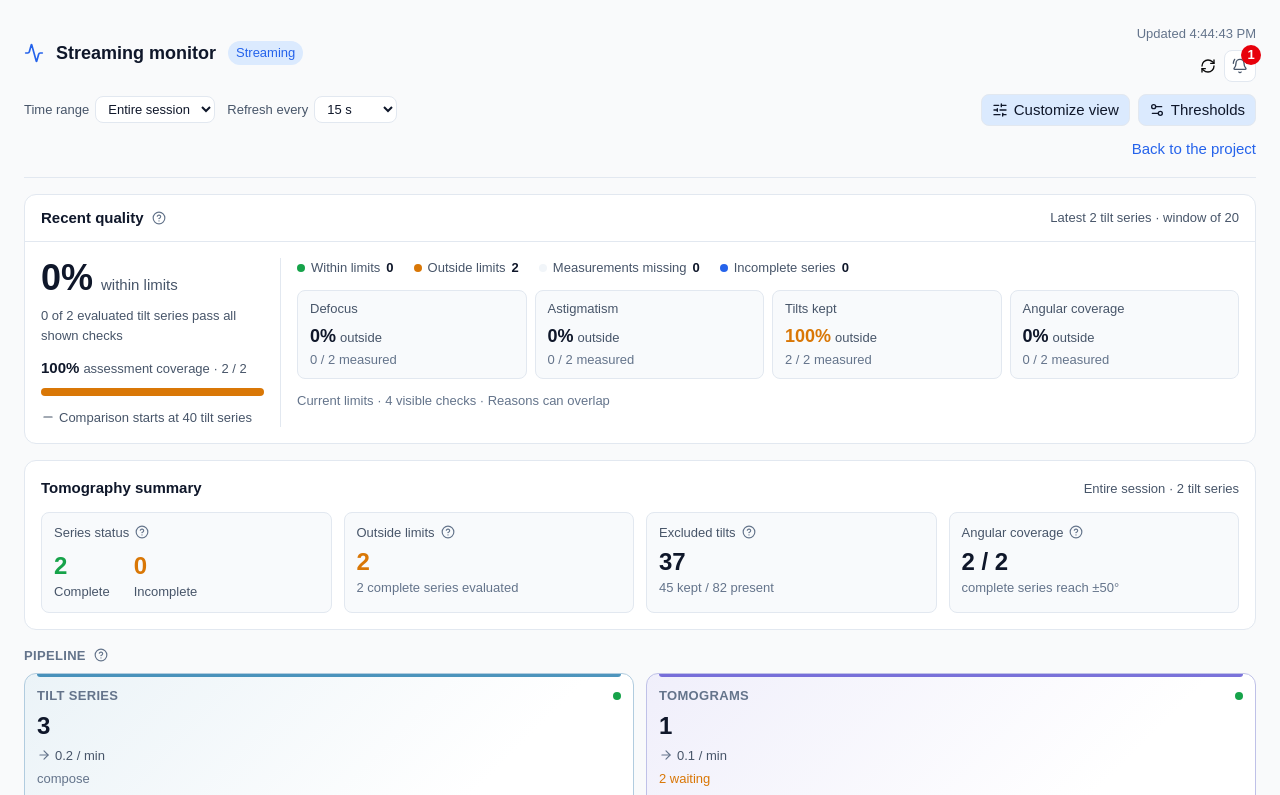
The tomography view of the monitor › marks in red what goes past a threshold and lists the runs of tilt series
Click the button named "Alerts, 1 new": click(1240, 66) [1224,50,1256,82]
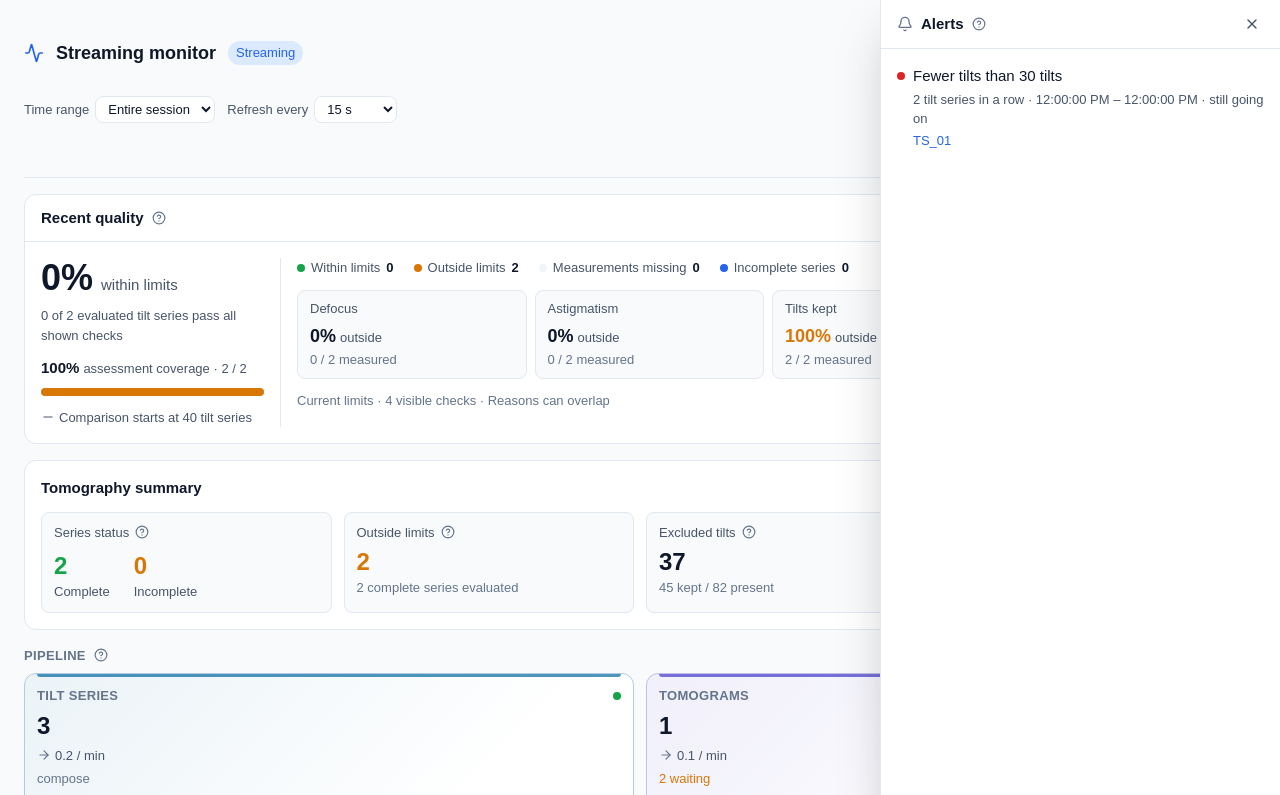
Now the text "Fewer tilts than 30 tilts" is shown, box [913,65,1062,88]
Now the text "2 tilt series in a row" is shown, box [913,92,1024,106]
The alert opens its tilt series in the tomography view
Click the button "TS_01": click(932, 140) [913,130,951,150]
(page scrolled)
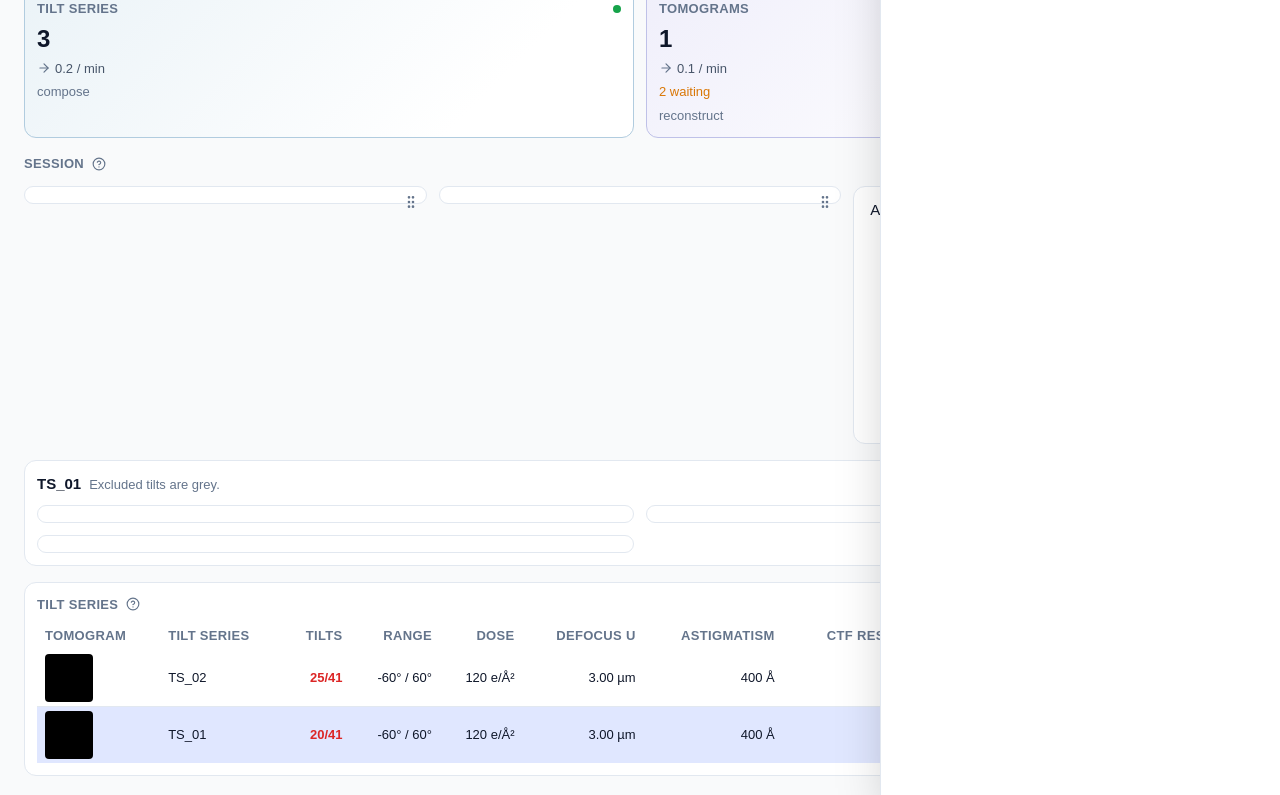
Now the element named "Tilt series TS_01" is shown, box [24,460,1256,566]
